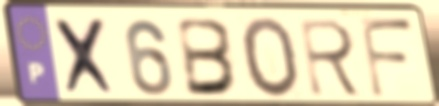6: (122, 16, 175, 99)
B: (175, 15, 243, 99)
F: (357, 14, 418, 101)
O: (238, 15, 304, 101)
R: (297, 16, 367, 99)
X: (50, 15, 123, 98)
